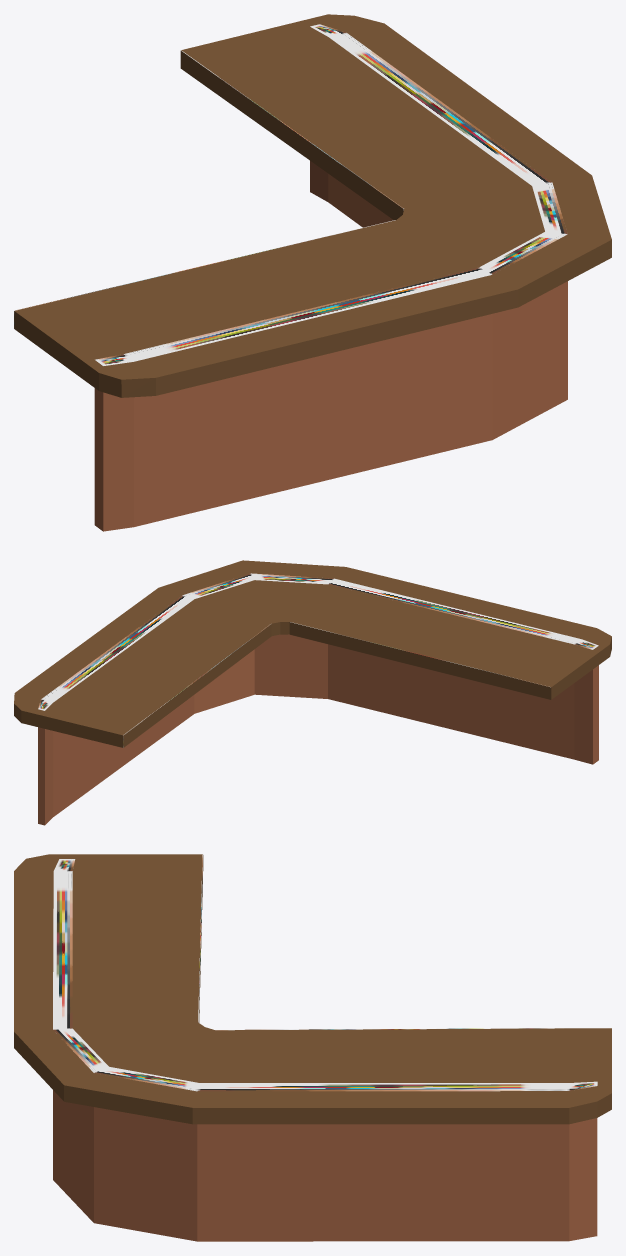
Rendered from mesh_recepcionisttable2.fbx.
3 renders of one model, top to bottom at view 1: azimuth 30°, elevation 25°; view 2: azimuth 150°, elevation 25°; view 3: azimuth 270°, elevation 25°, orthographic. The views are drawn at different scales.
Parts seen in each view (by area): view 1: mesh_furniture_receptionist_table_01; view 2: mesh_furniture_receptionist_table_01; view 3: mesh_furniture_receptionist_table_01.
Boxes of the visible parts, bbox=[...] form: mesh_furniture_receptionist_table_01: bbox=[14, 14, 611, 531]; mesh_furniture_receptionist_table_01: bbox=[14, 560, 611, 825]; mesh_furniture_receptionist_table_01: bbox=[14, 854, 611, 1241].
Bounding box in the file's own units: 89.44 × 24.7 × 89.17.
